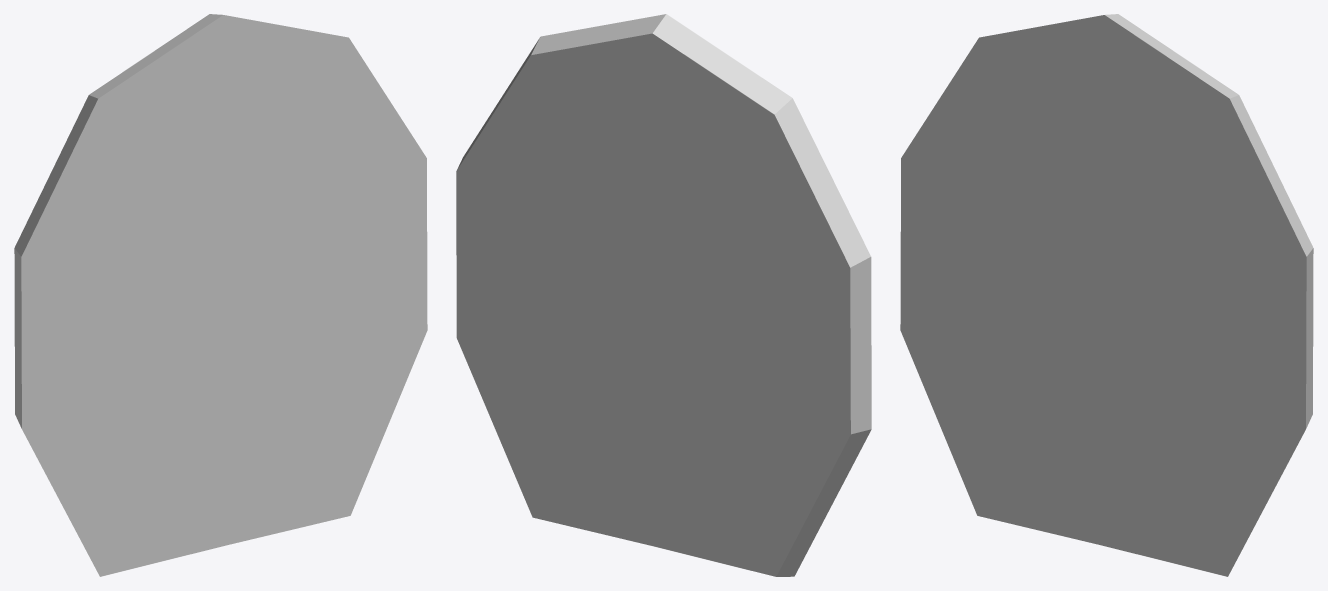
File: SM_Prop_Toilet_01_Lid.obj
3 views of the same model, side by side, from view 1: azimuth 30°, elevation 25°; view 2: azimuth 150°, elevation 25°; view 3: azimuth 330°, elevation 25° (orthographic).
Visible parts, largest first — view 1: SM_Prop_Toilet_01_Lid_0; view 2: SM_Prop_Toilet_01_Lid_0; view 3: SM_Prop_Toilet_01_Lid_0.
Part boxes in pixels (x1=…): SM_Prop_Toilet_01_Lid_0: x1=14, y1=14, x2=427, y2=576; SM_Prop_Toilet_01_Lid_0: x1=456, y1=14, x2=871, y2=576; SM_Prop_Toilet_01_Lid_0: x1=900, y1=14, x2=1313, y2=576.
Size of the model in its own units: 0.4129 by 0.5158 by 0.0277.
Materials: 1 (1 with a texture image).
